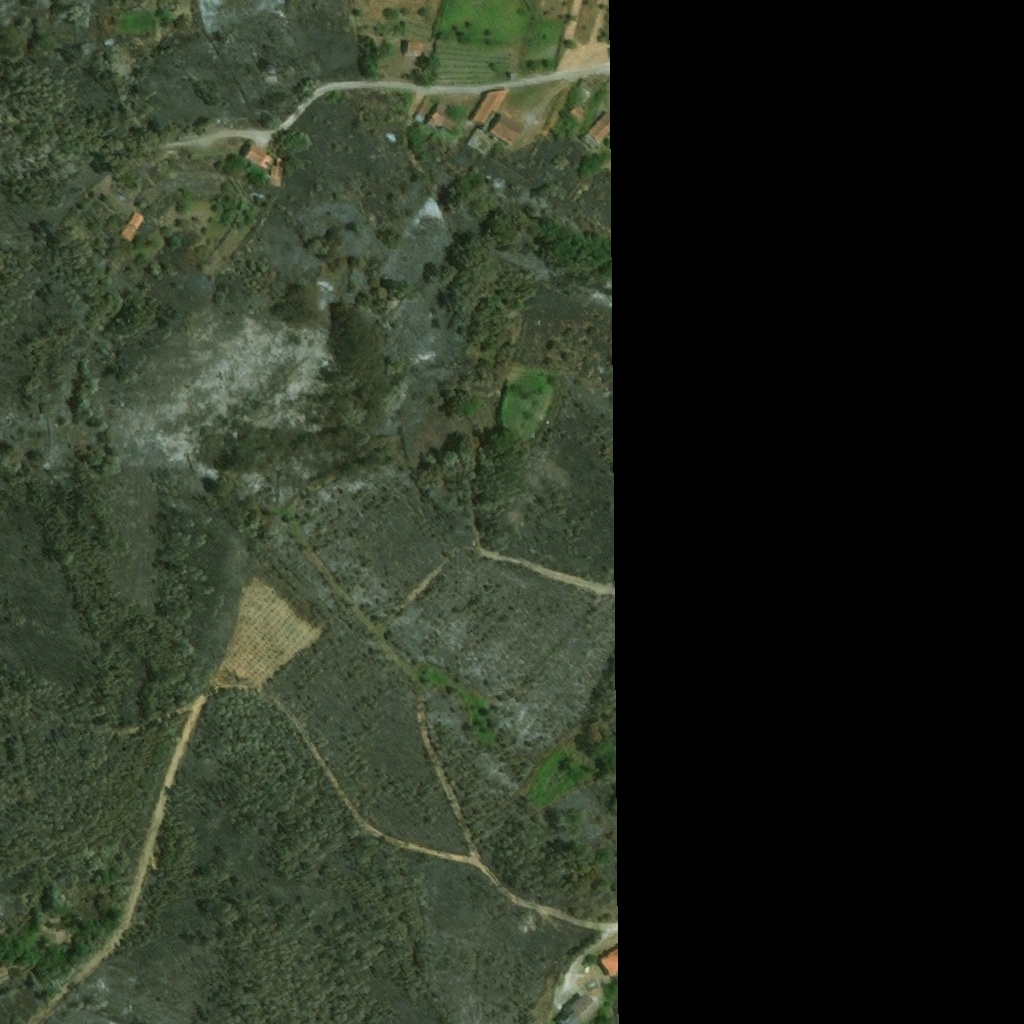0 no-damage: (581, 110, 616, 151), (470, 91, 508, 125), (555, 995, 599, 1023), (489, 114, 524, 146), (596, 943, 623, 977), (465, 129, 495, 157), (425, 101, 451, 132), (121, 213, 146, 243), (413, 99, 433, 126), (573, 86, 593, 112), (245, 147, 270, 167), (578, 77, 600, 94), (402, 42, 422, 58), (569, 106, 584, 122), (270, 165, 285, 180)
